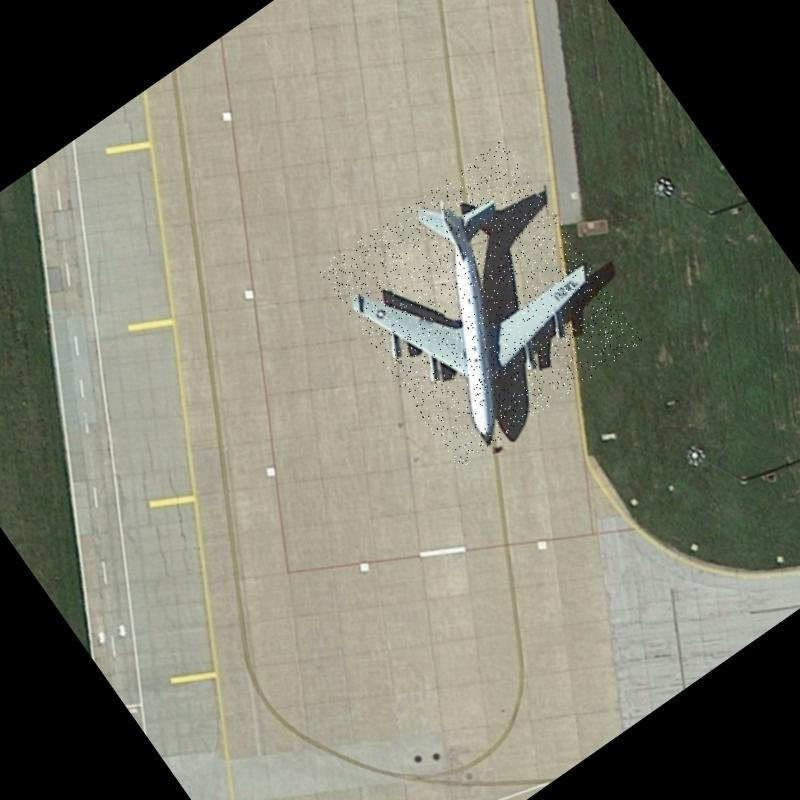A11: (318, 139, 644, 470)
